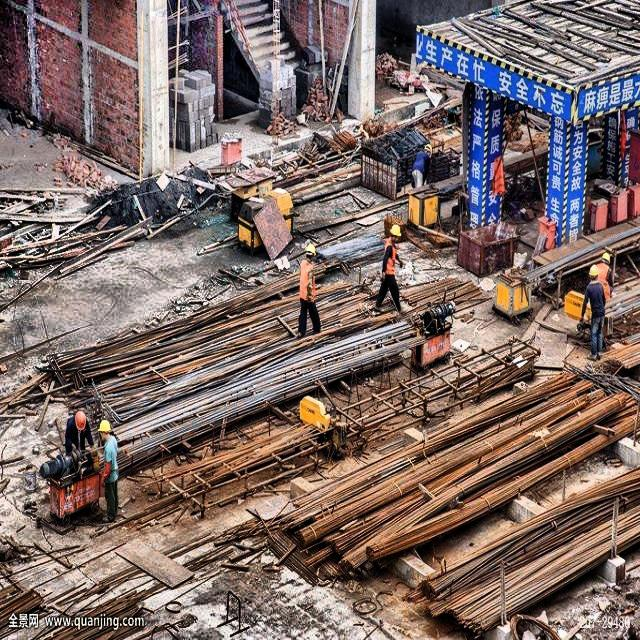person: (374, 218, 406, 320), (296, 238, 322, 346)
